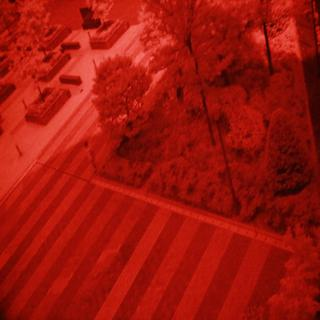person: (76, 137, 99, 174)
